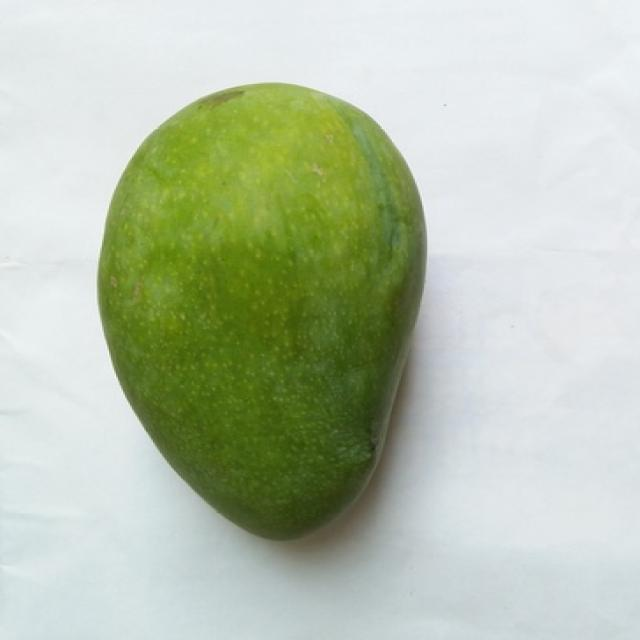Mango: (98, 84, 424, 538)
